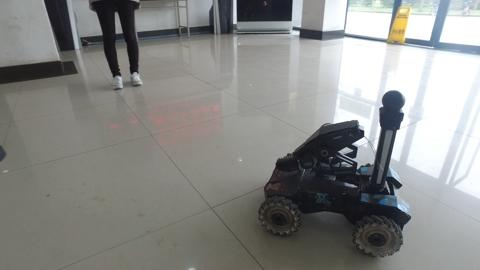chariot: (256, 88, 411, 259)
